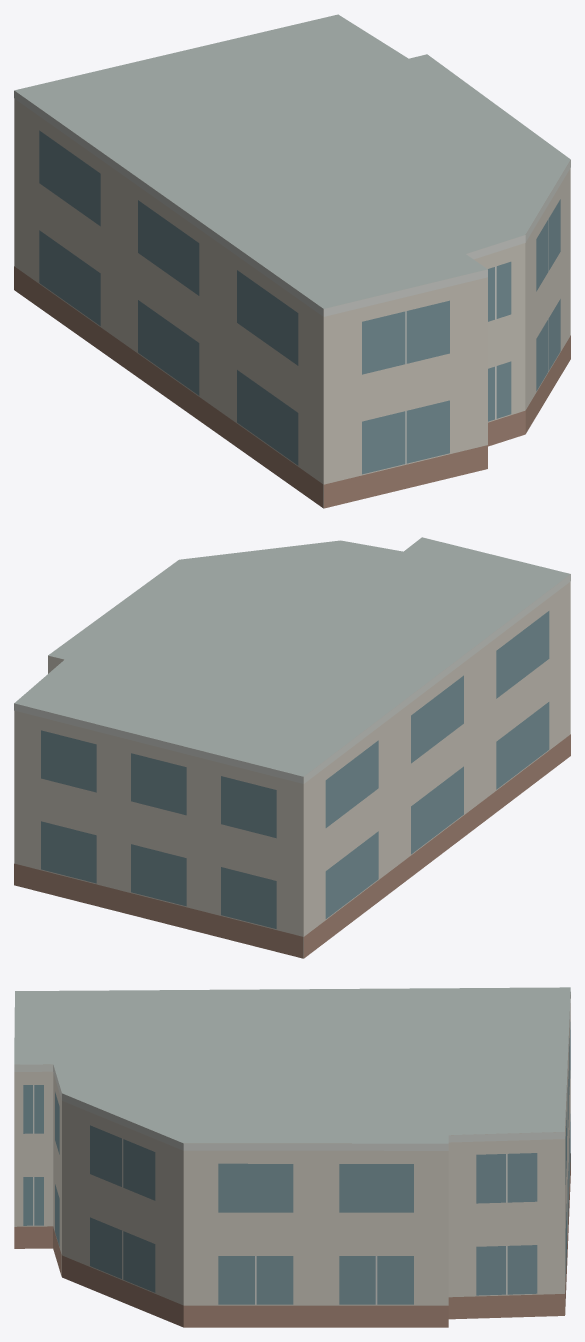
Rendered from survey-upis-32817694.glb.
The picture shows the model from 3 angles, top to bottom: view 1: azimuth 30°, elevation 25°; view 2: azimuth 150°, elevation 25°; view 3: azimuth 270°, elevation 25°; orthographic projection. The views are drawn at different scales.
Visible parts, largest first — view 1: survey-upis-32817694.tmp; view 2: survey-upis-32817694.tmp; view 3: survey-upis-32817694.tmp.
Part boxes in pixels (box(x1,y1,x2,y2)): survey-upis-32817694.tmp: box(14, 14, 570, 508); survey-upis-32817694.tmp: box(14, 537, 570, 958); survey-upis-32817694.tmp: box(14, 987, 570, 1327).
Bounding box in the file's own units: 11.11 × 6.1 × 16.73.
